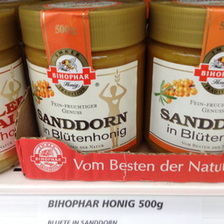honey: (20, 4, 147, 155), (151, 1, 224, 165)
